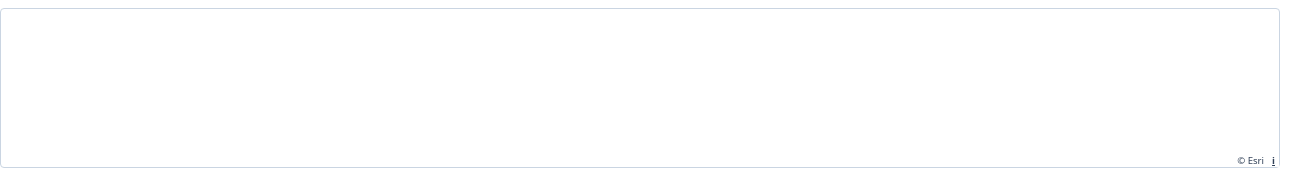
Test: MentionMap › creditsEsriCompactlyAndInFullOnRequest
The width and height of the screenshot is (1292, 185).
expect the text "© Esri" is shown: met, box [1237, 154, 1264, 167]
Click the button named "Map credits".
click(1274, 161)  # box [1268, 155, 1279, 167]
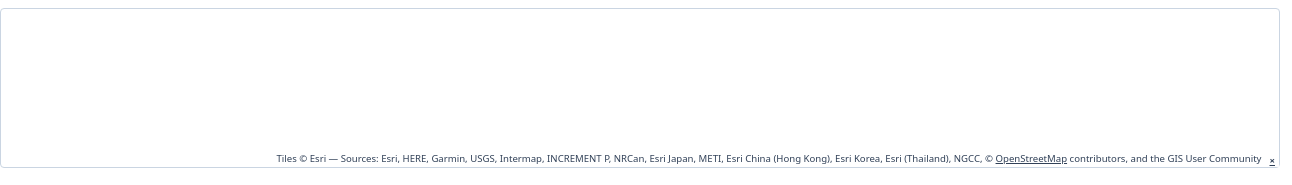
expect the button named "Map credits" is expanded: met, box [1266, 155, 1279, 167]
